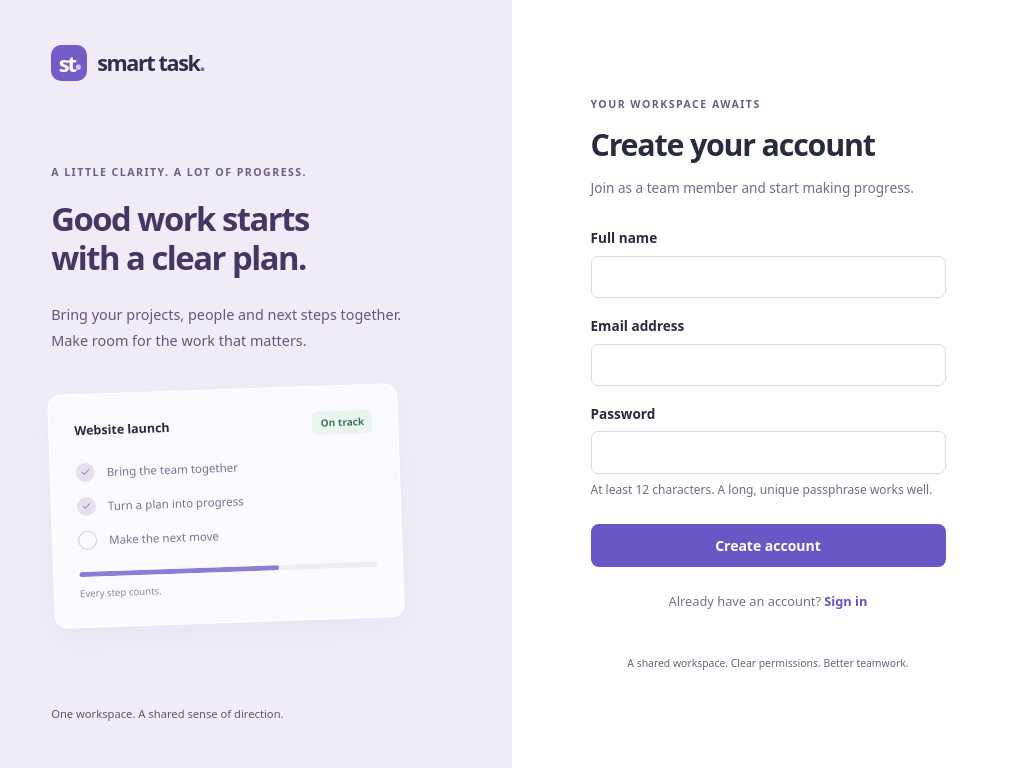
Test case: explains member registration and rejects a short password locally
Expected: the heading "Create your account" is shown, x1=590 y1=124 x2=875 y2=165
Type "Example Member" into the field labelled "Full name" at (768, 277), box x1=590 y1=256 x2=946 y2=298
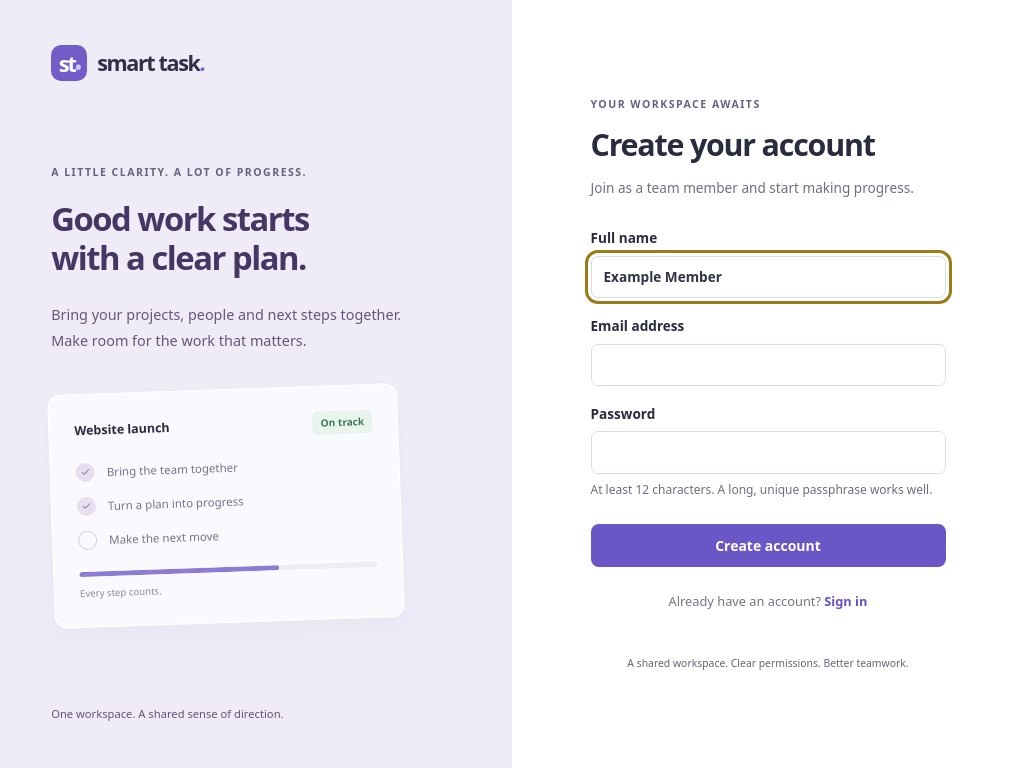
Type "member@example.invalid" into the field labelled "Email address" at (768, 365), box x1=590 y1=344 x2=946 y2=386
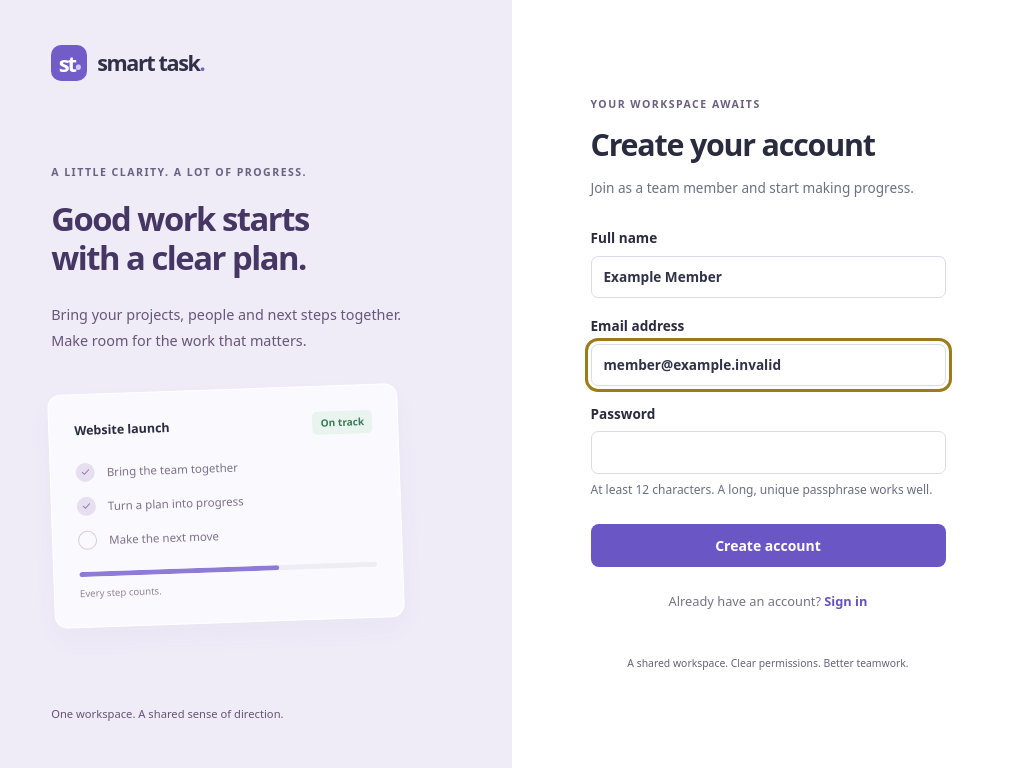
Type "short" into the password field labelled "Password" at (768, 452), box x1=590 y1=431 x2=946 y2=474
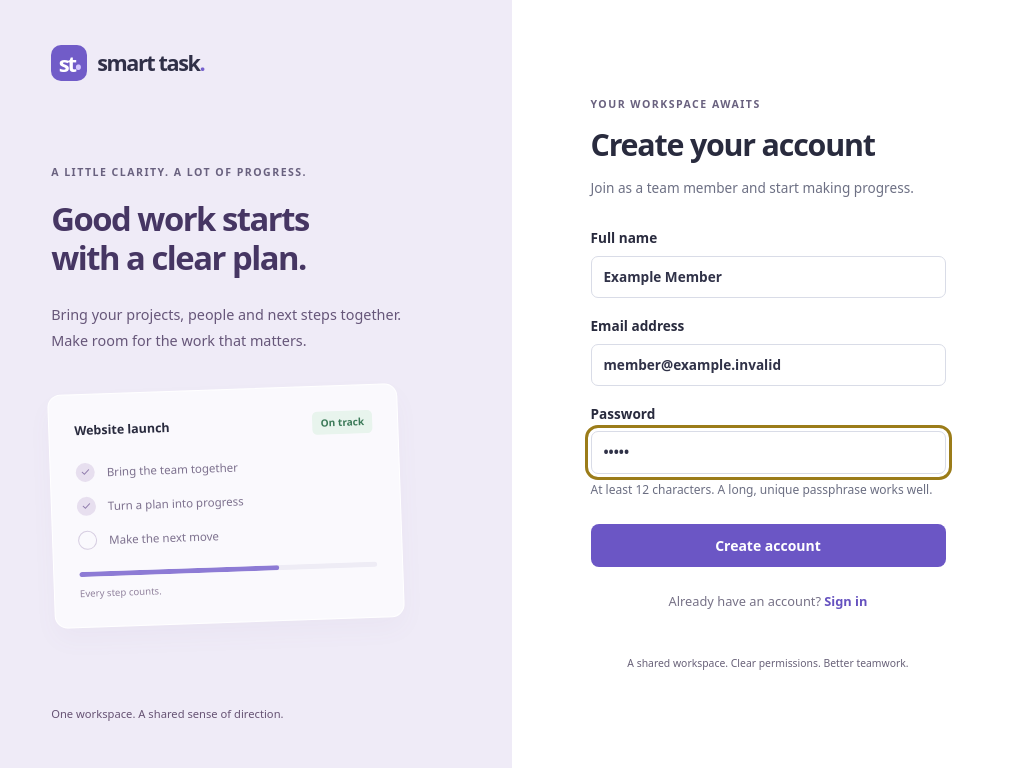
Click the button "Create account" at (768, 545), box x1=590 y1=524 x2=946 y2=567
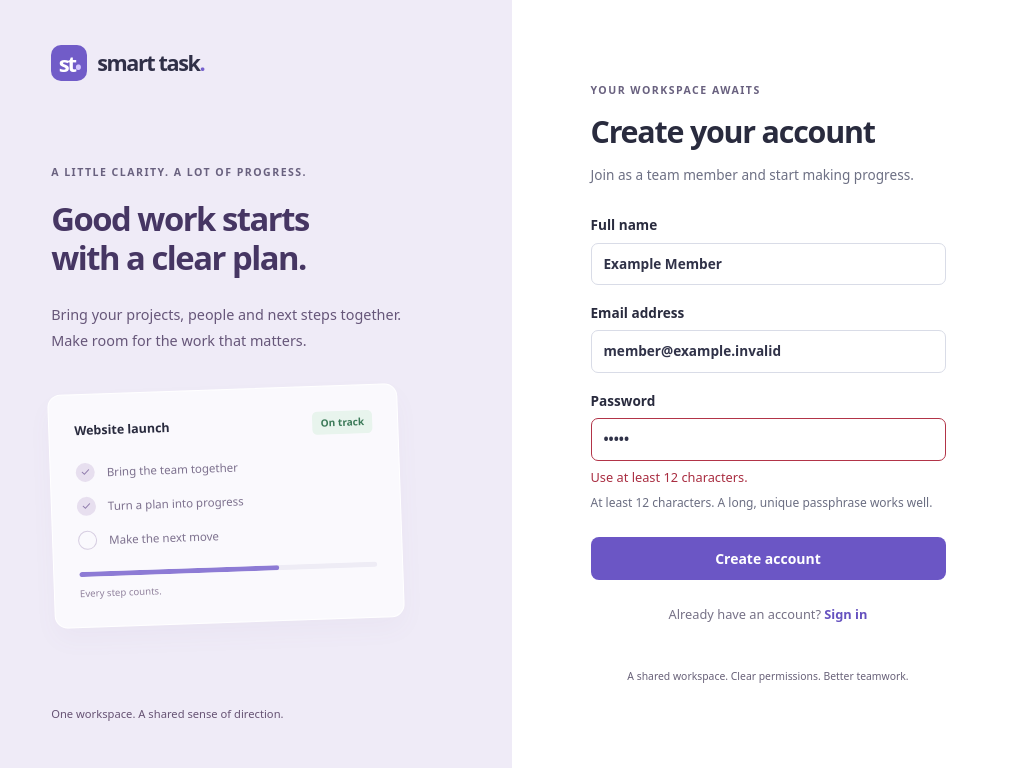
Expected: the text "Use at least 12 characters." is shown, x1=590 y1=468 x2=748 y2=486
